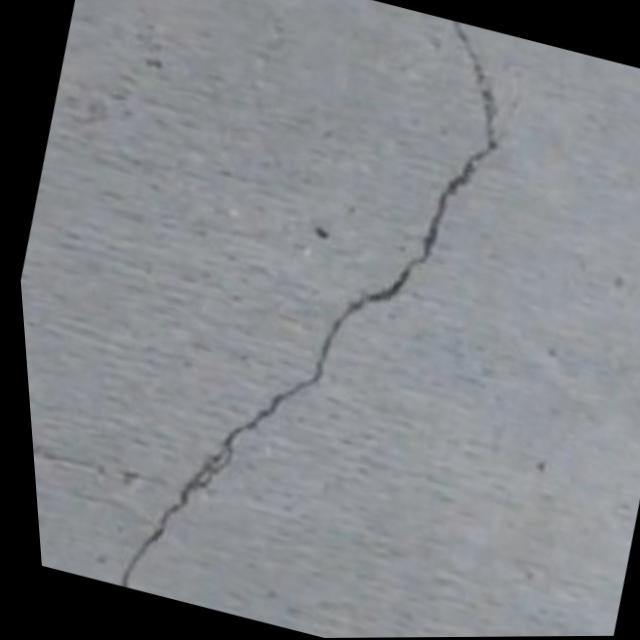Crack: (64, 0, 569, 640)
